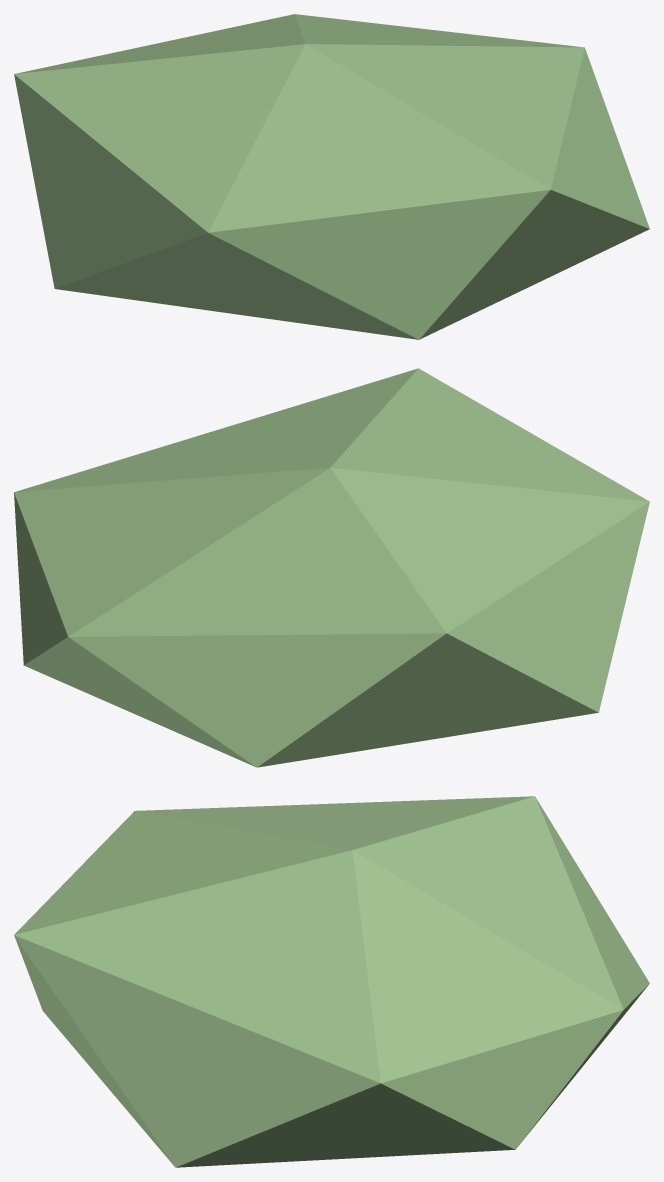
The model's file is golem_moss_tuft_02.glb.
3 renders of one model, top to bottom at view 1: azimuth 30°, elevation 25°; view 2: azimuth 150°, elevation 25°; view 3: azimuth 270°, elevation 25°, orthographic. The views are drawn at different scales.
Visible parts, largest first — view 1: golem_moss_tuft; view 2: golem_moss_tuft; view 3: golem_moss_tuft.
Part boxes in pixels (<box>): golem_moss_tuft: <box>14,14,649,339</box>; golem_moss_tuft: <box>14,368,649,767</box>; golem_moss_tuft: <box>14,796,649,1167</box>.
Size of the model in its own units: 0.7324 by 0.2702 by 0.7185.
